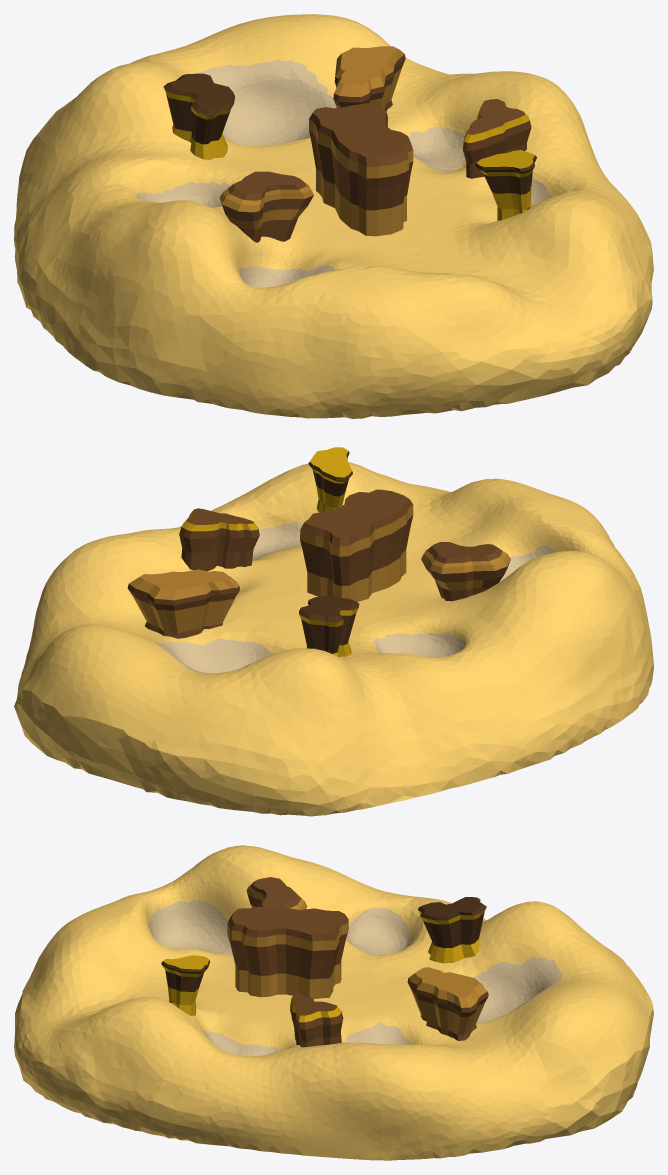
Rendered from Cactos_Enviroment2.fbx.
The picture shows the model from 3 angles, top to bottom: view 1: azimuth 30°, elevation 25°; view 2: azimuth 150°, elevation 25°; view 3: azimuth 270°, elevation 25°; orthographic projection. The views are drawn at different scales.
Parts seen in each view (by area): view 1: Icosphere, Icosphere.001, Plane.001, Plane.002, Plane.003, Plane.005, Plane.006, Plane.004; view 2: Icosphere, Plane.001, Icosphere.001, Plane.005, Plane.006, Plane.002, Plane.003, Plane.004; view 3: Icosphere, Icosphere.001, Plane.001, Plane.005, Plane.003, Plane.006, Plane.004, Plane.002.
Part boxes in pixels (x1=…): Icosphere: x1=14, y1=14, x2=653, y2=418; Icosphere.001: x1=136, y1=59, x2=551, y2=287; Plane.001: x1=309, y1=102, x2=413, y2=236; Plane.002: x1=219, y1=171, x2=313, y2=242; Plane.003: x1=163, y1=73, x2=234, y2=159; Plane.005: x1=333, y1=46, x2=405, y2=111; Plane.006: x1=463, y1=99, x2=531, y2=178; Plane.004: x1=475, y1=150, x2=536, y2=220; Icosphere: x1=14, y1=462, x2=653, y2=816; Plane.001: x1=300, y1=489, x2=413, y2=602; Icosphere.001: x1=155, y1=521, x2=558, y2=673; Plane.005: x1=127, y1=569, x2=239, y2=638; Plane.006: x1=179, y1=508, x2=259, y2=571; Plane.002: x1=421, y1=542, x2=510, y2=601; Plane.003: x1=299, y1=595, x2=359, y2=656; Plane.004: x1=308, y1=447, x2=352, y2=512; Icosphere: x1=14, y1=845, x2=653, y2=1160; Icosphere.001: x1=149, y1=899, x2=562, y2=1056; Plane.001: x1=227, y1=906, x2=348, y2=998; Plane.005: x1=407, y1=967, x2=488, y2=1040; Plane.003: x1=418, y1=897, x2=486, y2=963; Plane.006: x1=290, y1=993, x2=343, y2=1047; Plane.004: x1=161, y1=955, x2=209, y2=1015; Plane.002: x1=246, y1=877, x2=307, y2=909.
Size of the model in its own units: 14954 by 4027 by 17584.
